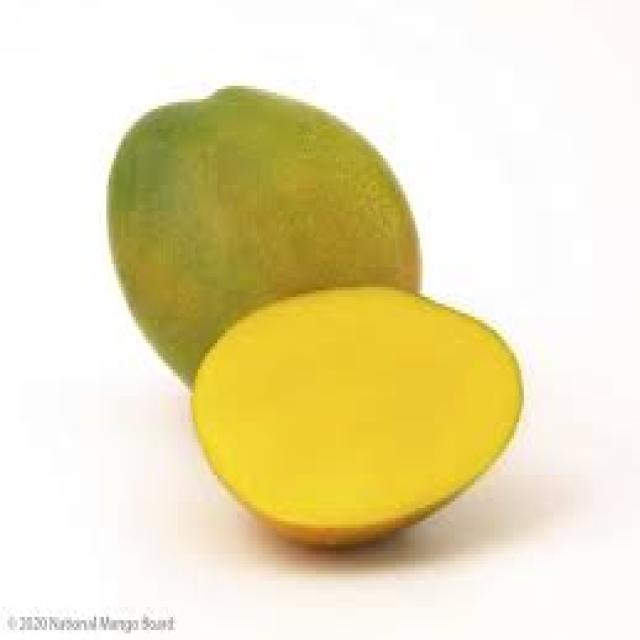mango: (190, 287, 524, 554)
